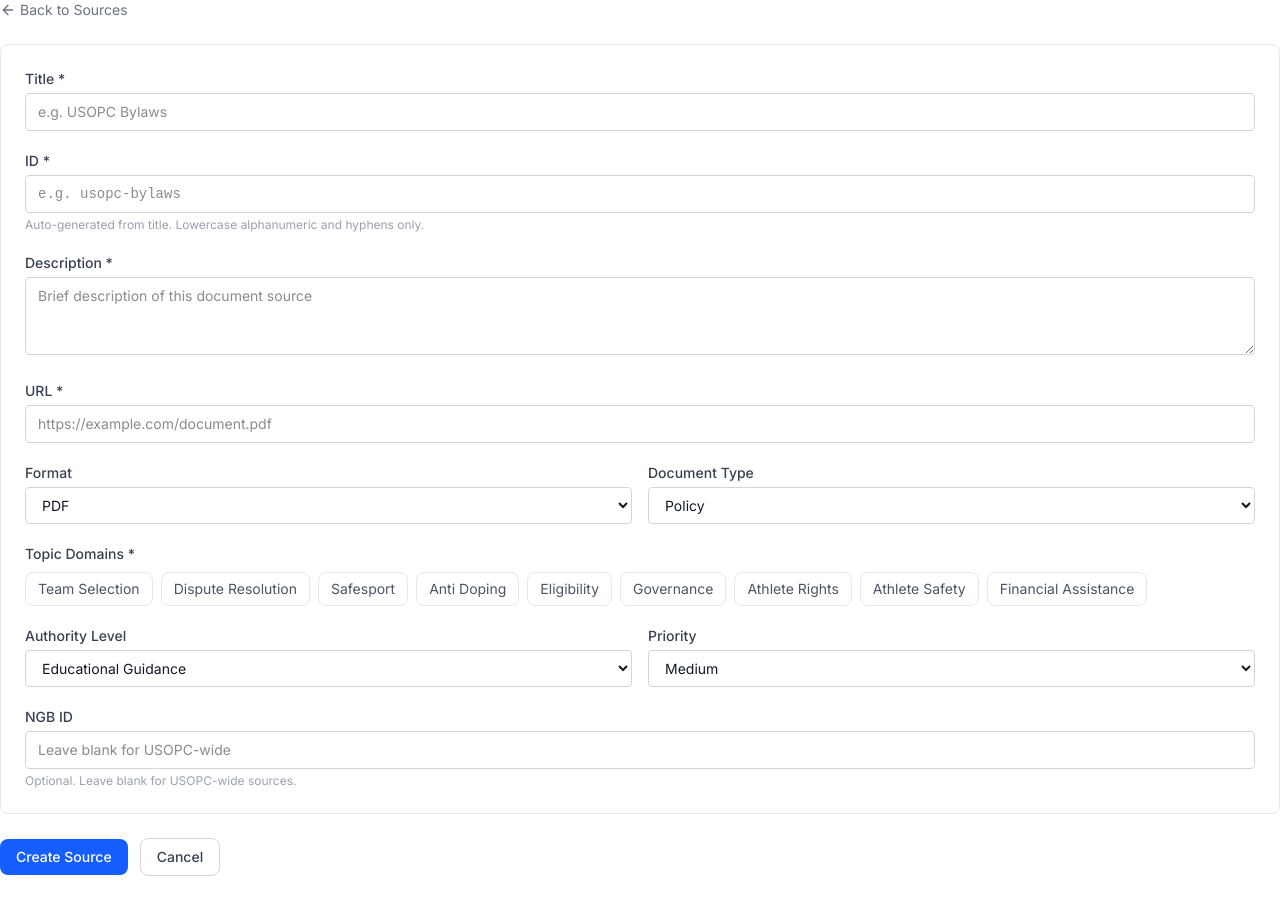
CreateSourceForm › shows error message on API failure
Type "Test" into the field labelled "Title *" at {"x": 640, "y": 112}, box [25,93,1255,131]
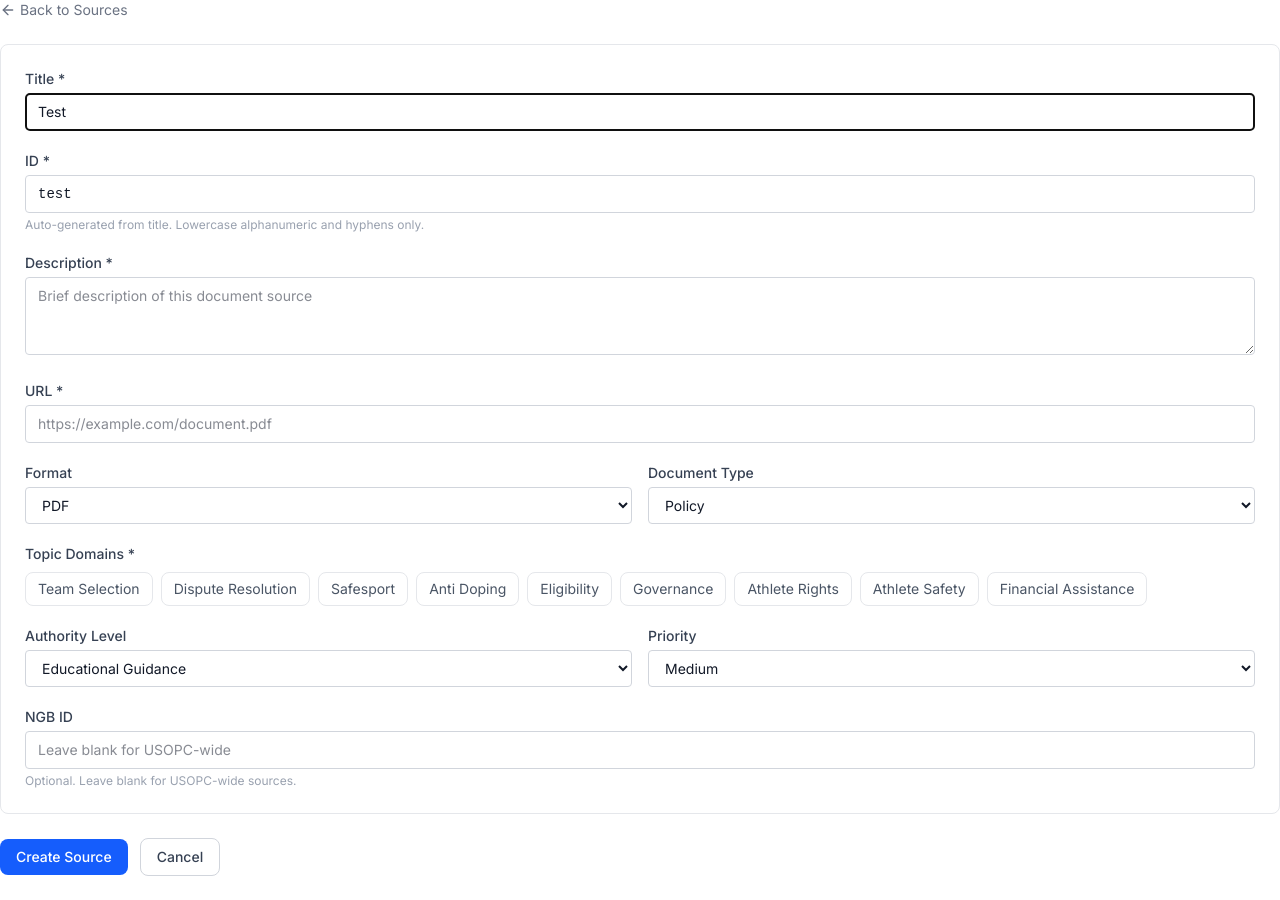
Type "Desc" into the text box labelled "Description *" at {"x": 640, "y": 316}, box [25,277,1255,355]
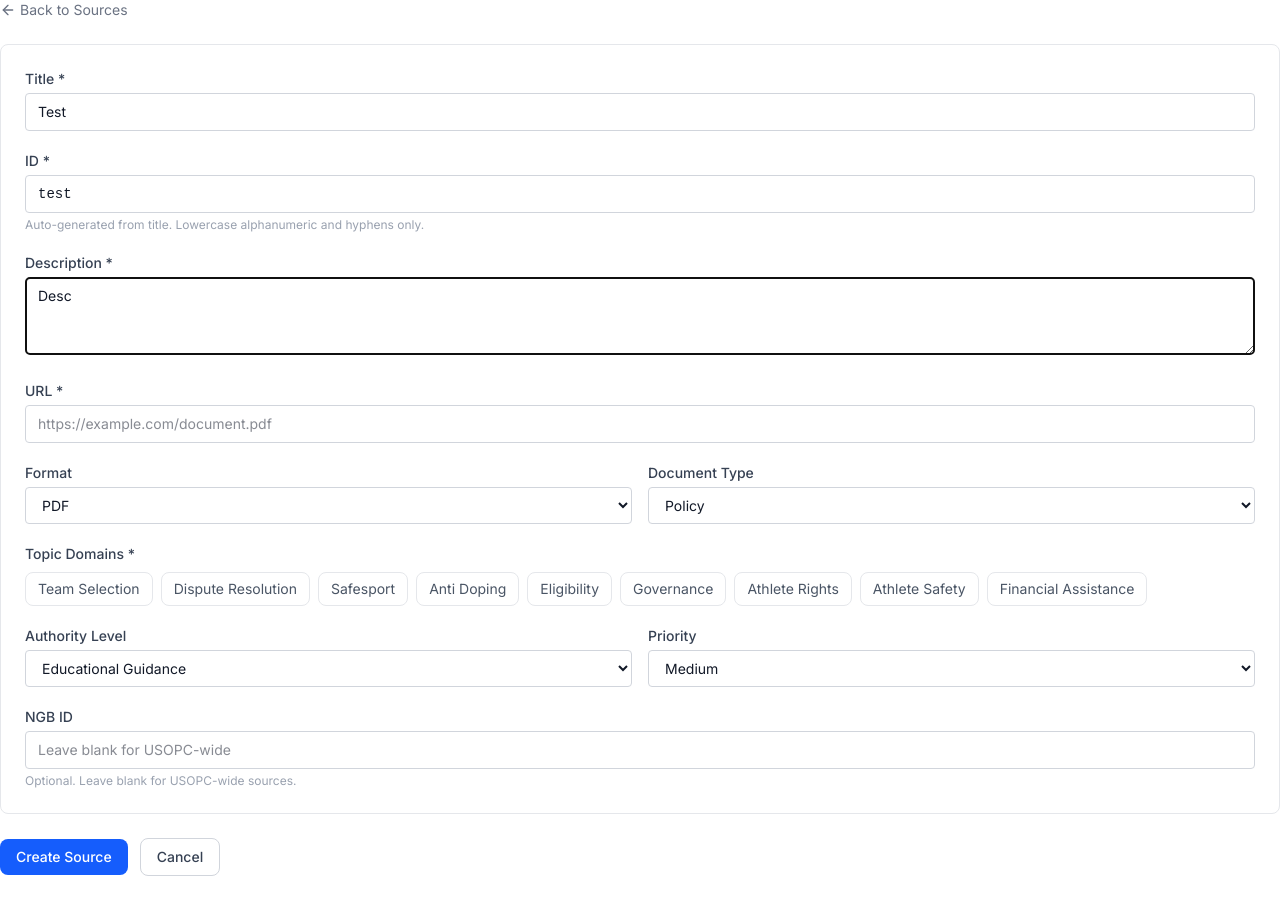
Type "https://example.com/doc.pdf" into the field labelled "URL *" at {"x": 640, "y": 424}, box [25,405,1255,443]
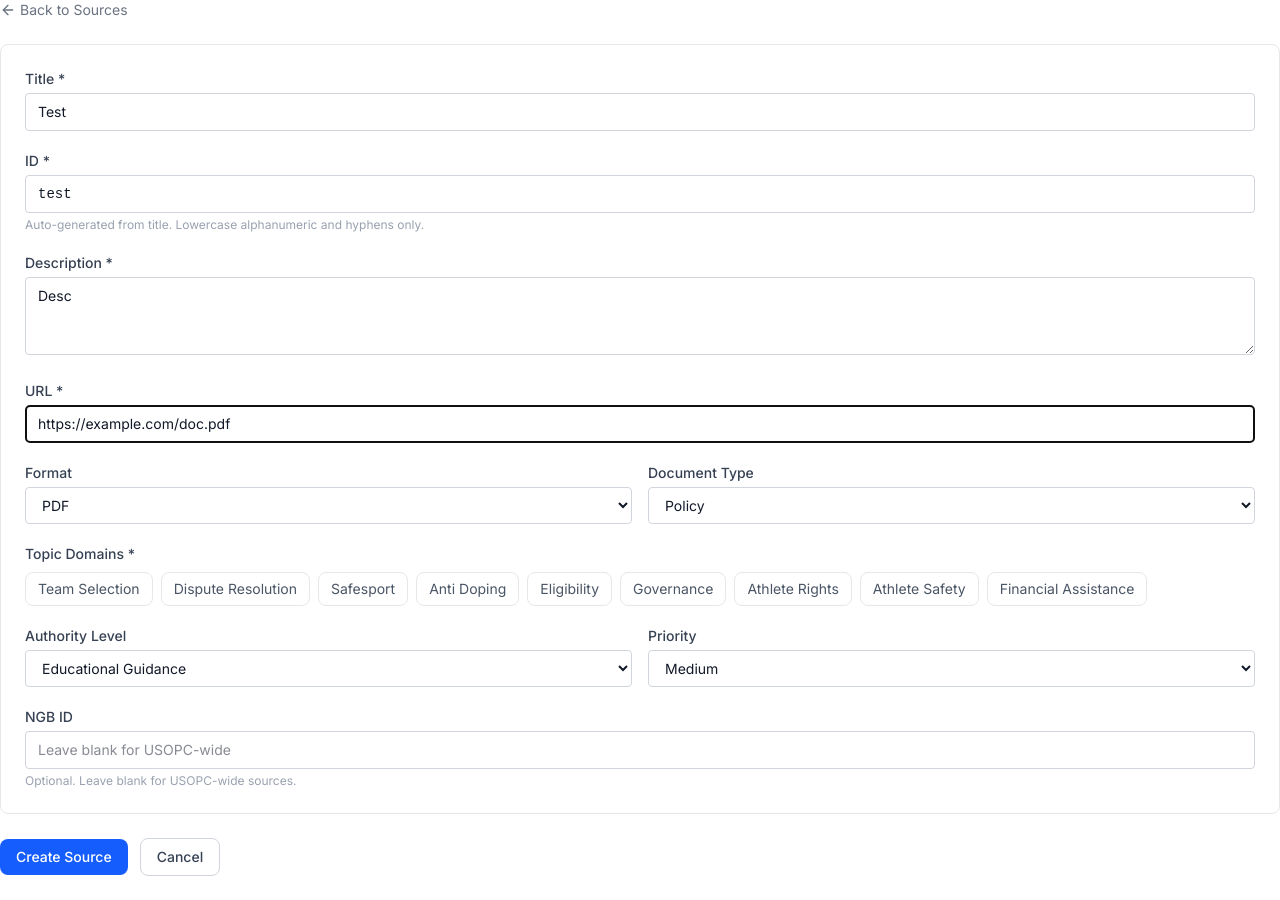
Click the checkbox "Governance" at {"x": 673, "y": 589}, box [620,572,726,606]
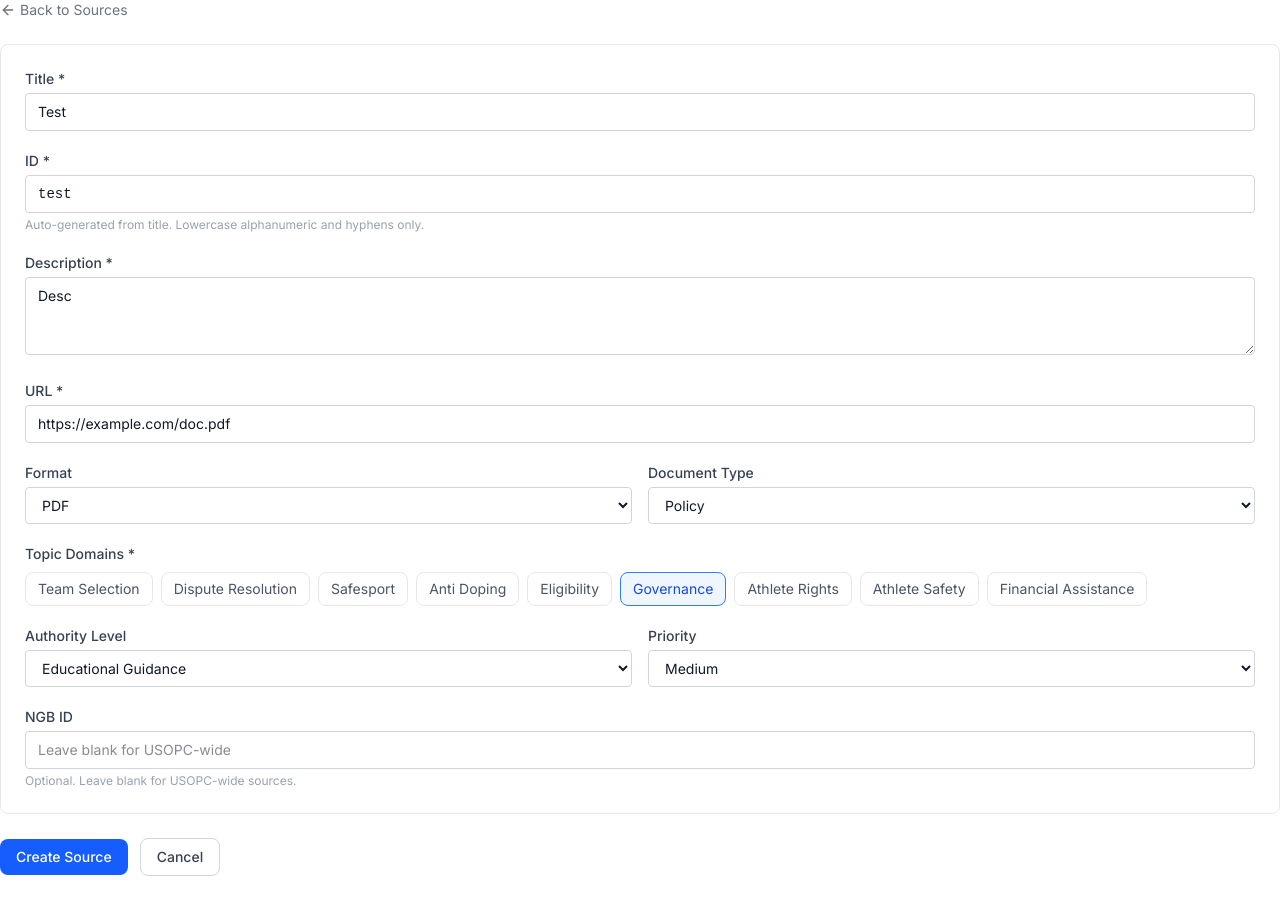
Click the button "Create Source" at {"x": 64, "y": 857}, box [0,839,128,875]
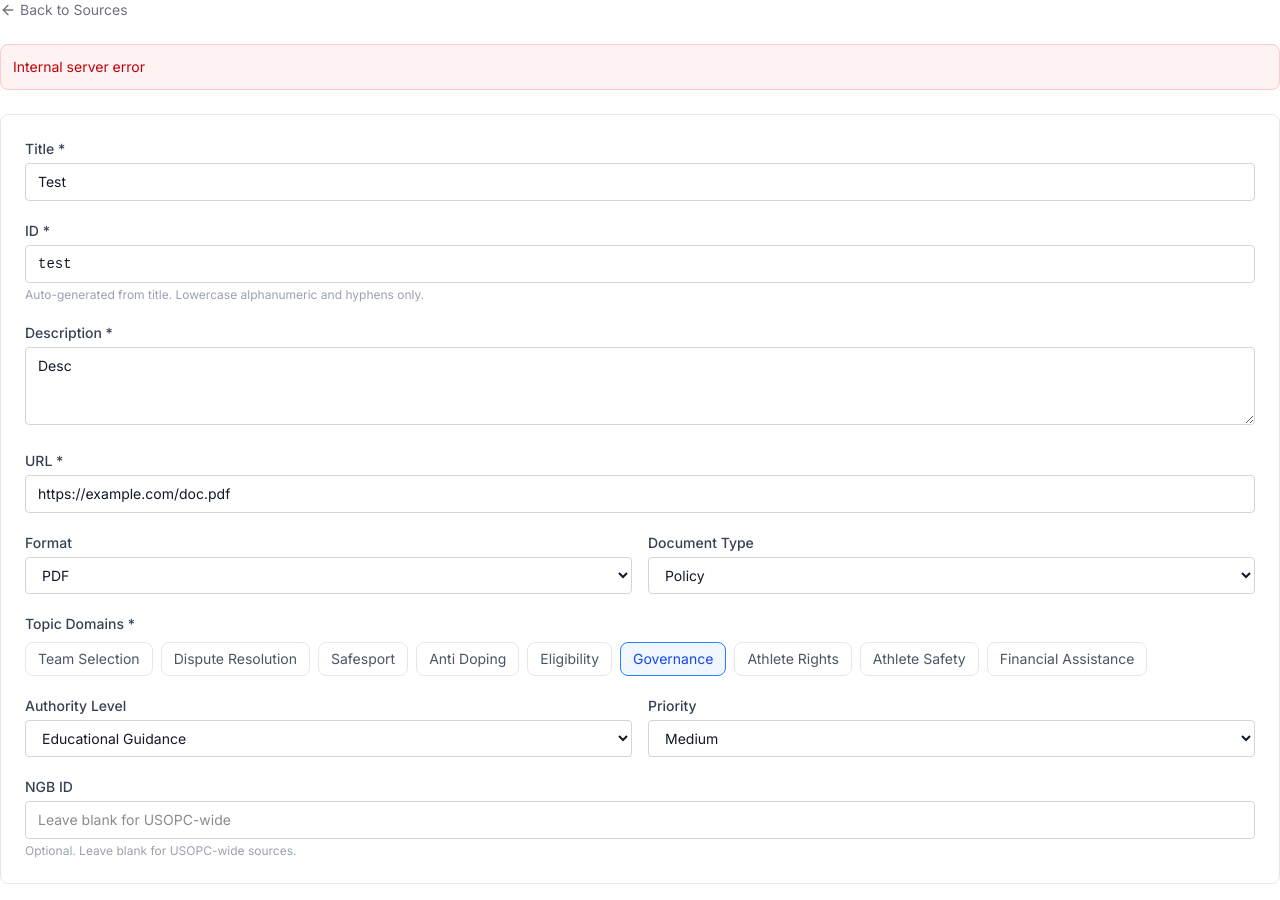
Result: the text "Internal server error" is shown at [0,44,1279,90]
